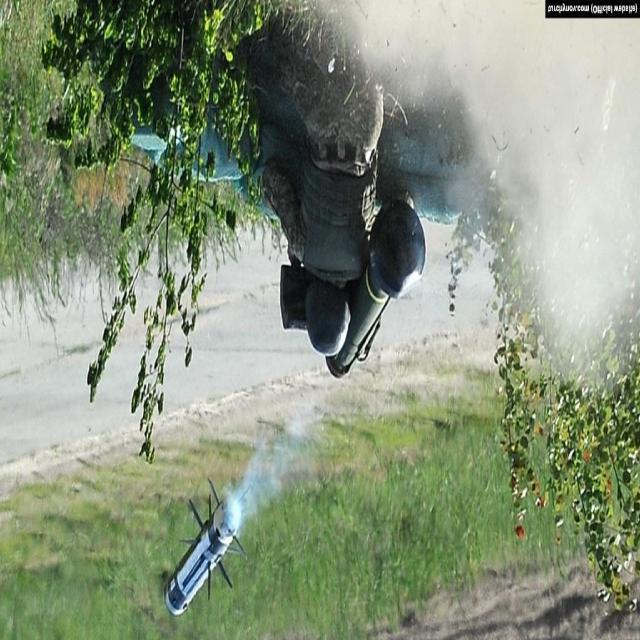missile: (166, 484, 252, 625)
